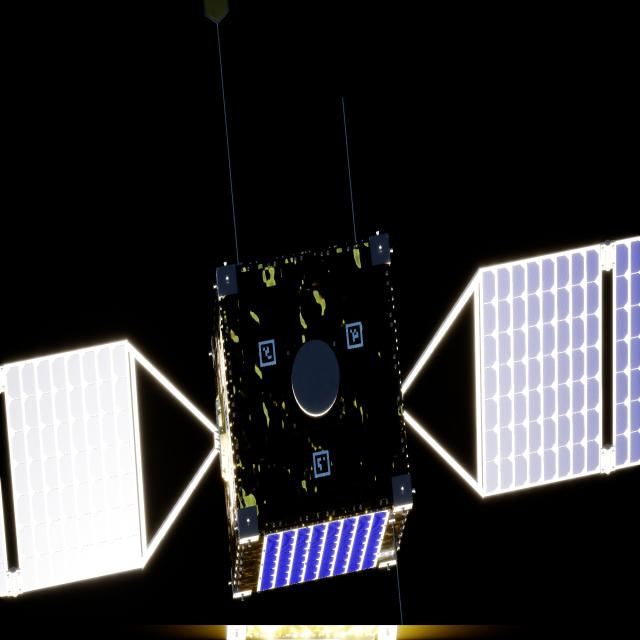medium_debris: (0, 232, 640, 601)
